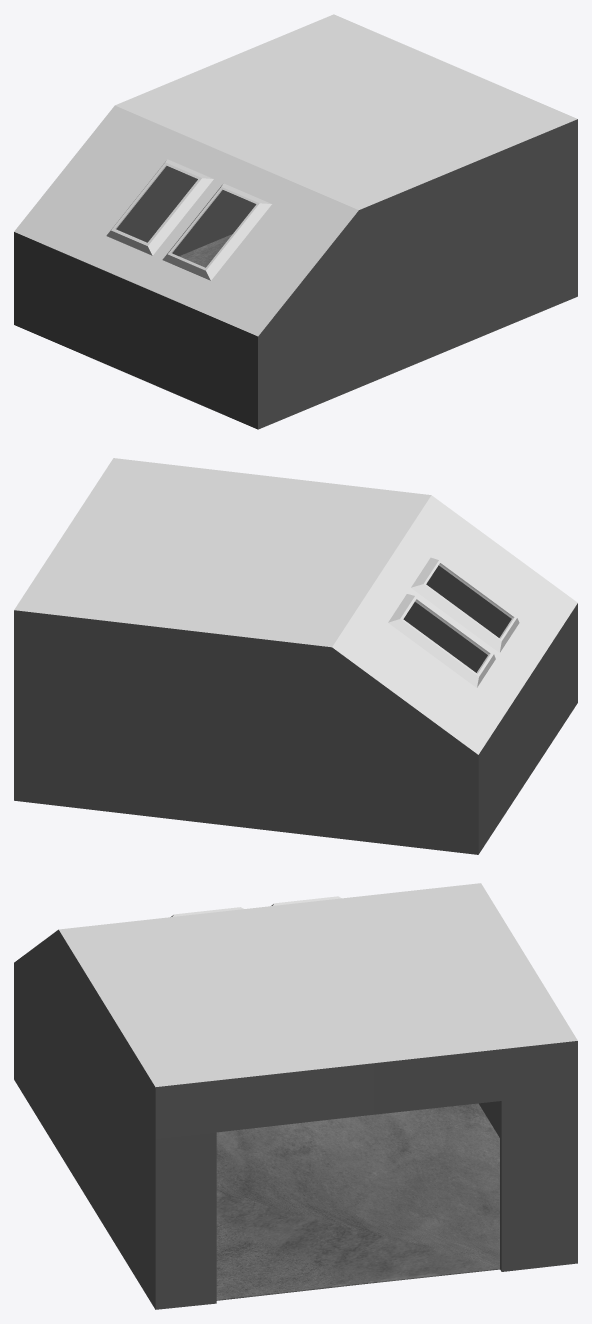
File: piece3.fbx
3 renders of one model, top to bottom at view 1: azimuth 30°, elevation 25°; view 2: azimuth 150°, elevation 25°; view 3: azimuth 270°, elevation 25°, orthographic. The views are drawn at different scales.
Visible parts, largest first — view 1: 3; view 2: 3; view 3: 3.
Boxes of the visible parts, x1,y1,x2,y2 form: 3: (14,14,577,429); 3: (14,458,577,854); 3: (14,883,577,1309).
Bounding box in the file's own units: 1226 × 462 × 1056.
